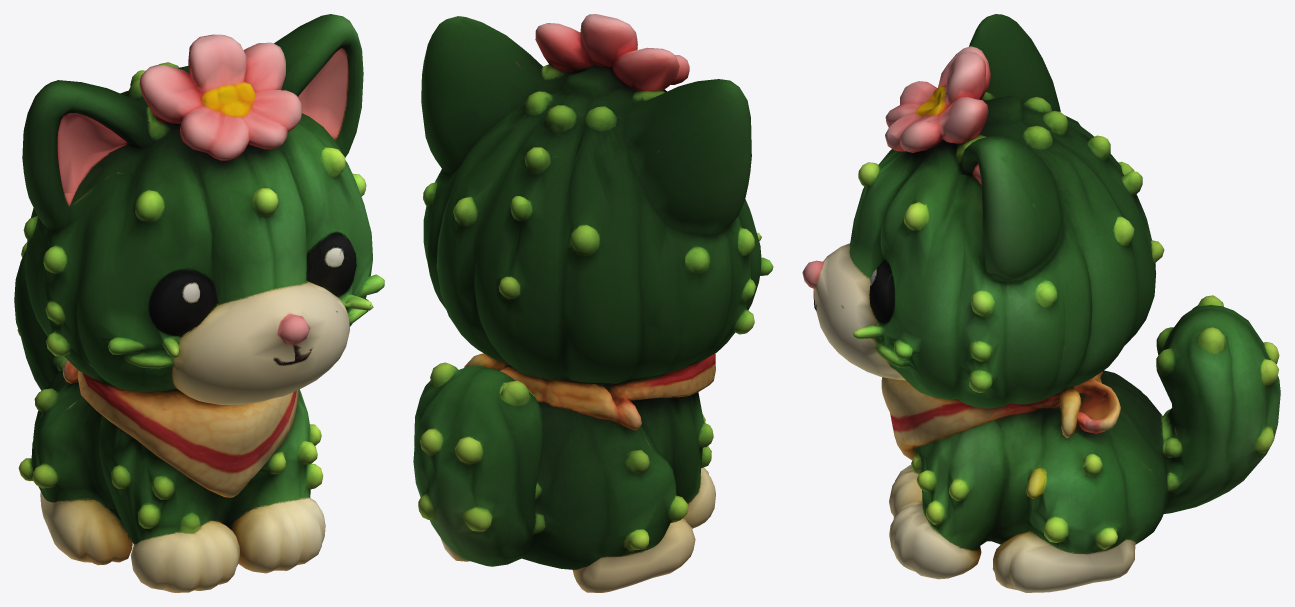
File: catcus.glb
3 views of the same model, side by side, from view 1: azimuth 30°, elevation 25°; view 2: azimuth 150°, elevation 25°; view 3: azimuth 270°, elevation 25° (orthographic). The views are drawn at different scales.
Parts seen in each view (by area): view 1: catcus; view 2: catcus; view 3: catcus.
Part boxes in pixels (left/top/right/bottom): catcus: left=14, top=14, right=384, bottom=592; catcus: left=413, top=14, right=773, bottom=592; catcus: left=802, top=14, right=1280, bottom=592.
Bounding box in the file's own units: 0.6656 × 1 × 0.885.
Materials: 1 (1 with a texture image).
